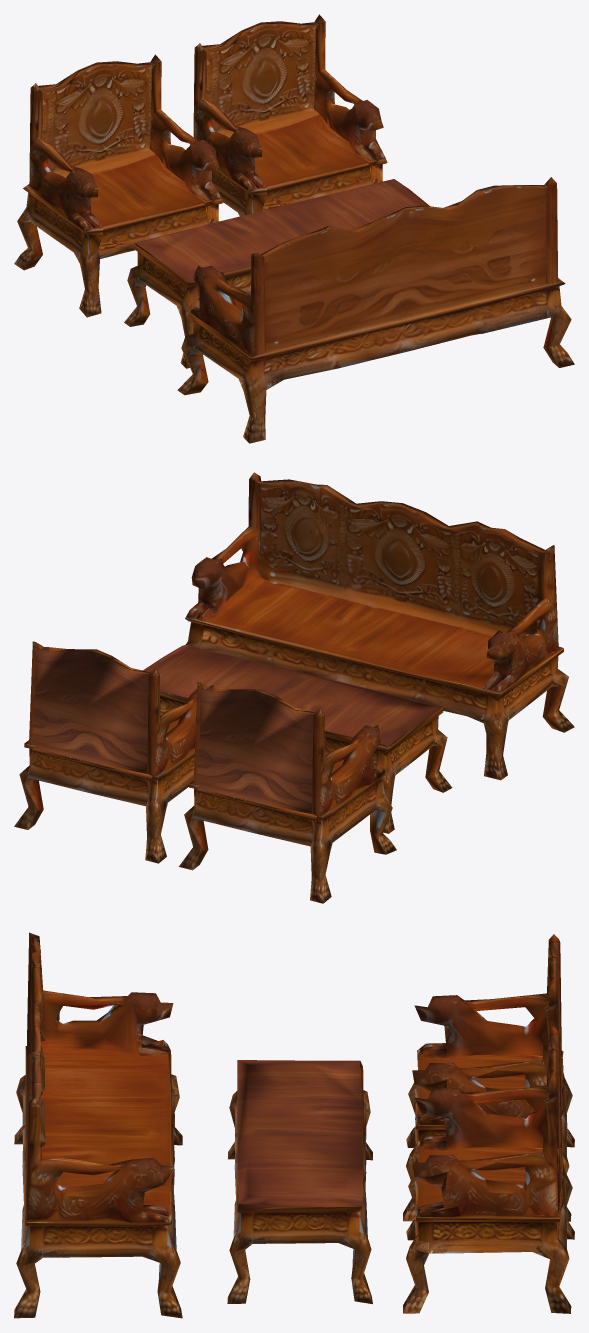
The model's file is vietnamese-dragon-sofa.glb.
The picture shows the model from 3 angles, top to bottom: view 1: azimuth 30°, elevation 25°; view 2: azimuth 150°, elevation 25°; view 3: azimuth 270°, elevation 25°; orthographic projection. The views are drawn at different scales.
Visible parts, largest first — view 1: vietnamese wooden sofa_tripo_material_7bc7da5e-dfba-447f-83d, vietnamese wooden sofa.006_tripo_material_7bc7da5e-dfba-447f, vietnamese wooden sofa.001_tripo_material_7bc7da5e-dfba-447f, vietnamese wooden sofa.002, vietnamese wooden sofa.002_tripo_material_7bc7da5e-dfba-447f; view 2: vietnamese wooden sofa_tripo_material_7bc7da5e-dfba-447f-83d, vietnamese wooden sofa.006_tripo_material_7bc7da5e-dfba-447f, vietnamese wooden sofa.001, vietnamese wooden sofa.006, vietnamese wooden sofa.001_tripo_material_7bc7da5e-dfba-447f, vietnamese wooden sofa.002, vietnamese wooden sofa.002_tripo_material_7bc7da5e-dfba-447f; view 3: vietnamese wooden sofa_tripo_material_7bc7da5e-dfba-447f-83d, vietnamese wooden sofa.001_tripo_material_7bc7da5e-dfba-447f, vietnamese wooden sofa.002, vietnamese wooden sofa.006_tripo_material_7bc7da5e-dfba-447f, vietnamese wooden sofa.002_tripo_material_7bc7da5e-dfba-447f, vietnamese wooden sofa.001.
Boxes of the visible parts, bbox=[...] form: vietnamese wooden sofa_tripo_material_7bc7da5e-dfba-447f-83d: bbox=[177, 177, 574, 443]; vietnamese wooden sofa.006_tripo_material_7bc7da5e-dfba-447f: bbox=[14, 54, 223, 317]; vietnamese wooden sofa.001_tripo_material_7bc7da5e-dfba-447f: bbox=[187, 14, 387, 216]; vietnamese wooden sofa.002: bbox=[136, 179, 429, 281]; vietnamese wooden sofa.002_tripo_material_7bc7da5e-dfba-447f: bbox=[124, 227, 250, 368]; vietnamese wooden sofa_tripo_material_7bc7da5e-dfba-447f-83d: bbox=[185, 472, 574, 780]; vietnamese wooden sofa.006_tripo_material_7bc7da5e-dfba-447f: bbox=[179, 681, 396, 903]; vietnamese wooden sofa.001: bbox=[32, 647, 150, 773]; vietnamese wooden sofa.006: bbox=[196, 687, 315, 814]; vietnamese wooden sofa.001_tripo_material_7bc7da5e-dfba-447f: bbox=[14, 641, 213, 863]; vietnamese wooden sofa.002: bbox=[143, 644, 442, 745]; vietnamese wooden sofa.002_tripo_material_7bc7da5e-dfba-447f: bbox=[160, 691, 452, 833]; vietnamese wooden sofa_tripo_material_7bc7da5e-dfba-447f-83d: bbox=[14, 932, 182, 1318]; vietnamese wooden sofa.001_tripo_material_7bc7da5e-dfba-447f: bbox=[403, 1026, 574, 1313]; vietnamese wooden sofa.002: bbox=[237, 1060, 362, 1211]; vietnamese wooden sofa.006_tripo_material_7bc7da5e-dfba-447f: bbox=[403, 934, 574, 1221]; vietnamese wooden sofa.002_tripo_material_7bc7da5e-dfba-447f: bbox=[227, 1061, 372, 1304]; vietnamese wooden sofa.001: bbox=[548, 1035, 561, 1211].
Size of the model in its own units: 2.98 by 1.65 by 3.86.
3 materials, 3 textured.
